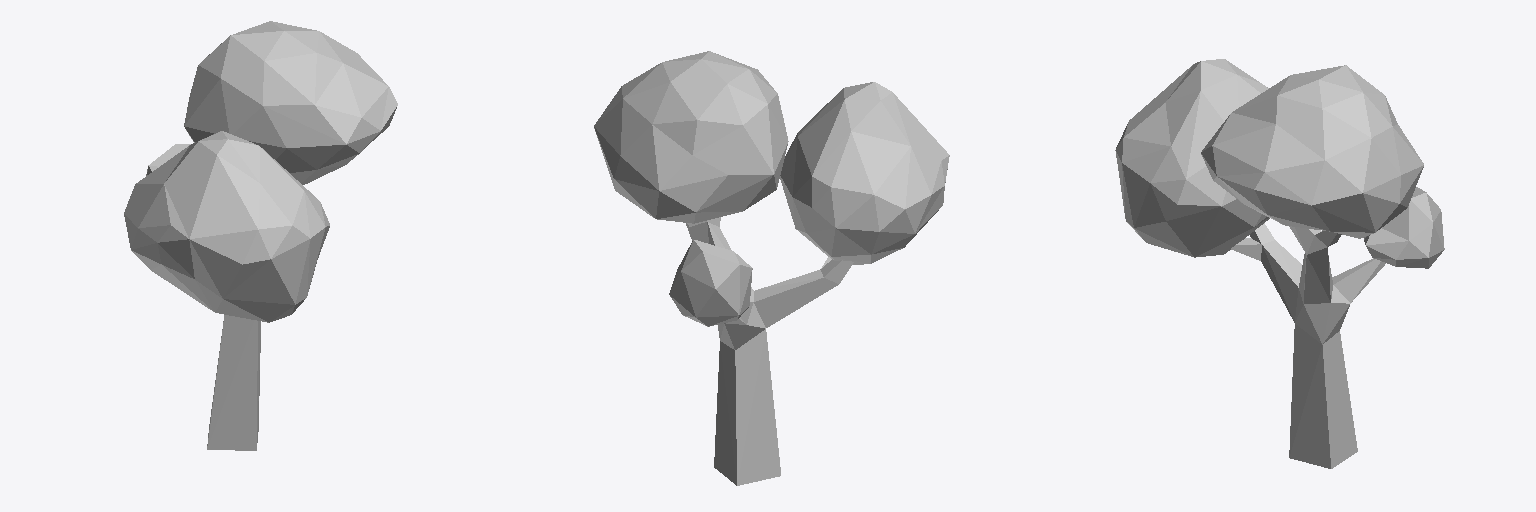
Rendered from ball_tree3.obj.
3 renders of one model, left to right at view 1: azimuth 30°, elevation 25°; view 2: azimuth 150°, elevation 25°; view 3: azimuth 270°, elevation 25°, orthographic.
Parts seen in each view (by area): view 1: Tree1_3_Cube.020; view 2: Tree1_3_Cube.020; view 3: Tree1_3_Cube.020.
Part boxes in pixels (x1,y1,x2,y2): Tree1_3_Cube.020: (124,21,397,450); Tree1_3_Cube.020: (594,51,949,485); Tree1_3_Cube.020: (1115,59,1444,468).
Bounding box in the file's own units: 5.58 × 7.55 × 5.65.